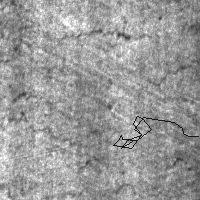crazing: (7, 88, 113, 175), (132, 55, 200, 133), (113, 116, 198, 148)
